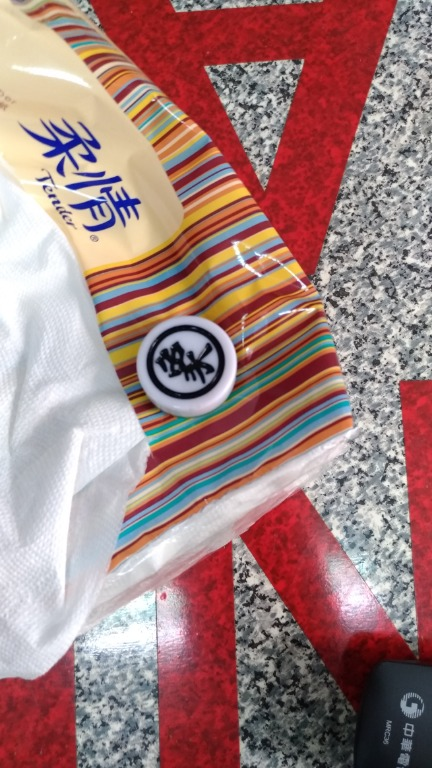b-elephant: (120, 305, 258, 427)
